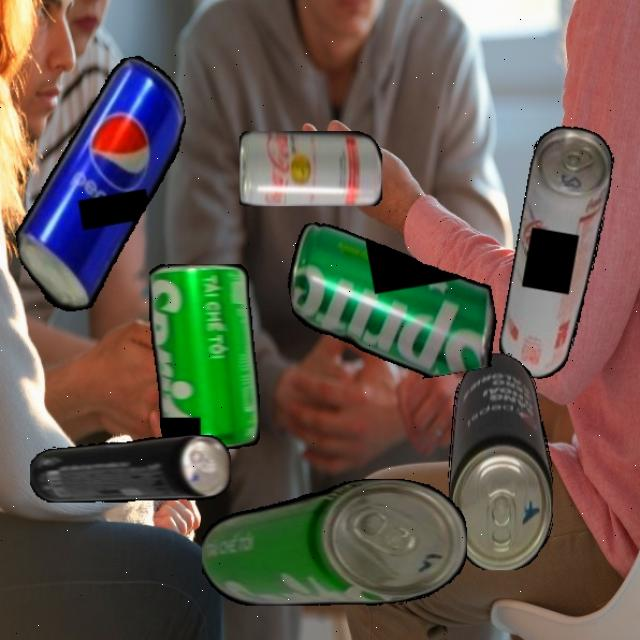debris: (0, 50, 215, 318), (279, 195, 504, 398), (201, 479, 467, 606), (495, 122, 619, 384), (447, 352, 553, 570), (149, 263, 260, 449), (29, 435, 231, 502), (238, 130, 382, 206)
